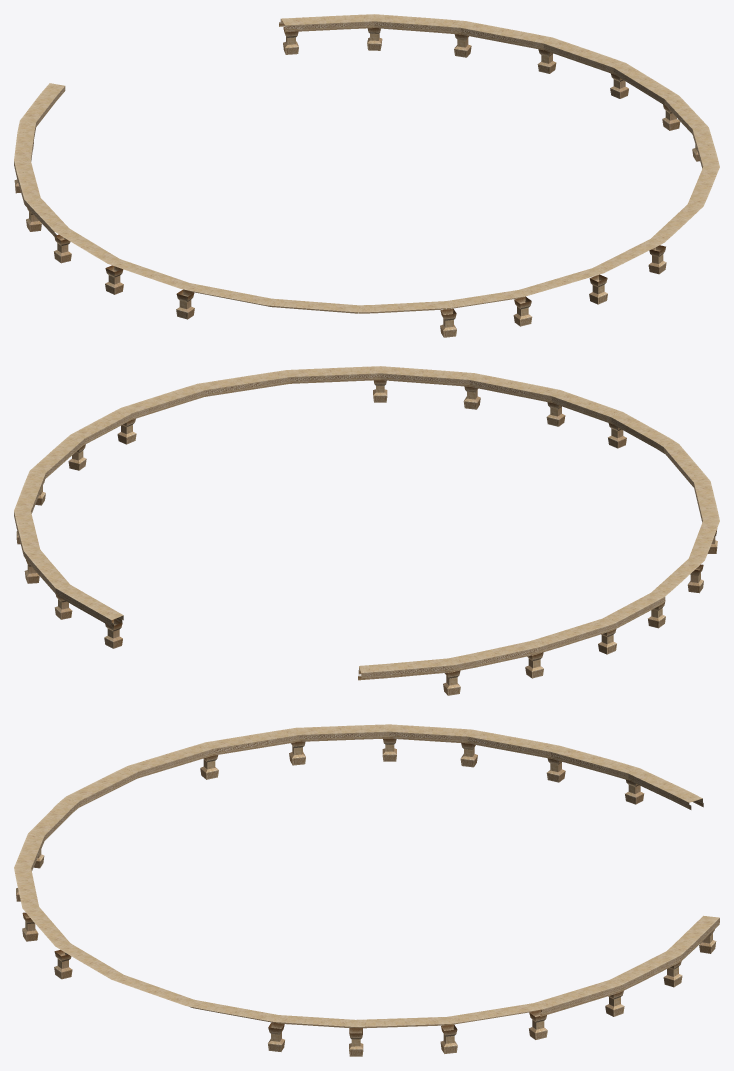
The model's file is Arena1_banister01.FBX.
The picture shows the model from 3 angles, top to bottom: view 1: azimuth 30°, elevation 25°; view 2: azimuth 150°, elevation 25°; view 3: azimuth 270°, elevation 25°; orthographic projection. The views are drawn at different scales.
Visible parts, largest first — view 1: Arena1_banister01; view 2: Arena1_banister01; view 3: Arena1_banister01.
Part boxes in pixels (box(x1,y1,x2,y2)): Arena1_banister01: box(14, 14, 719, 337); Arena1_banister01: box(14, 366, 719, 695); Arena1_banister01: box(14, 724, 719, 1056).
Size of the model in its own units: 18.39 by 0.874 by 18.12.
